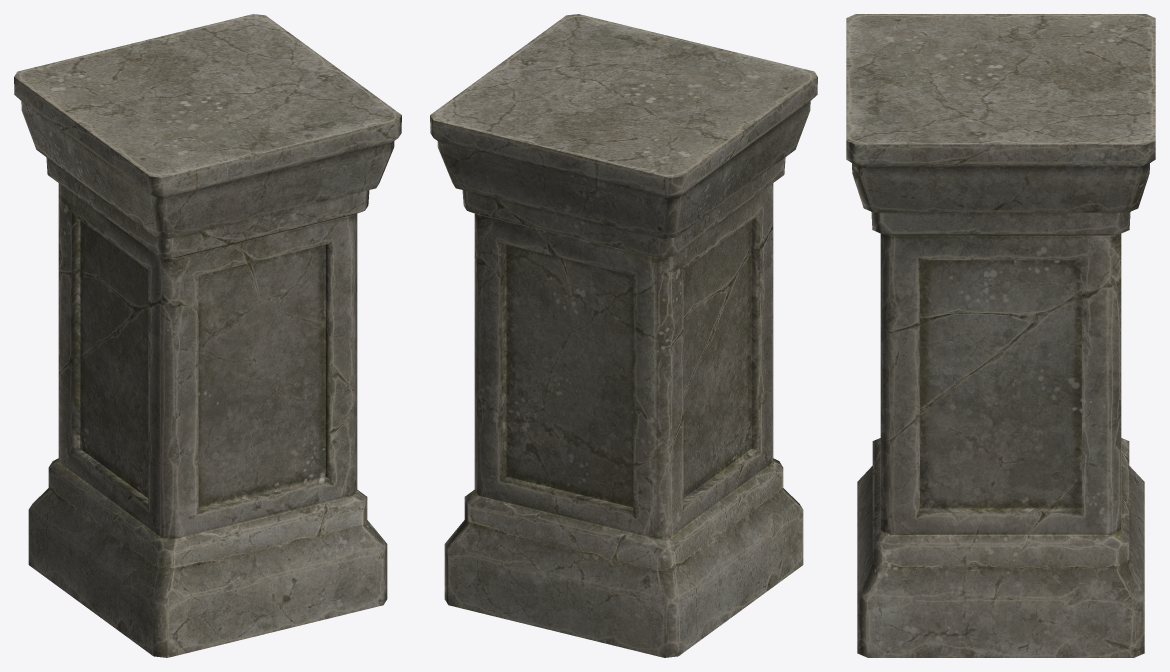
Rendered from SM_Pier_01.fbx.
The picture shows the model from 3 angles, left to right: view 1: azimuth 30°, elevation 25°; view 2: azimuth 150°, elevation 25°; view 3: azimuth 270°, elevation 25°; orthographic projection. The views are drawn at different scales.
Visible parts, largest first — view 1: SM_Pier_01_LOD0; view 2: SM_Pier_01_LOD0; view 3: SM_Pier_01_LOD0.
Boxes of the visible parts, left/top/right/bottom form: SM_Pier_01_LOD0: left=14, top=14, right=401, bottom=657; SM_Pier_01_LOD0: left=430, top=14, right=817, bottom=657; SM_Pier_01_LOD0: left=846, top=14, right=1155, bottom=657.
Size of what is drawn, in the model's own units: 68.45 by 126 by 68.45.
